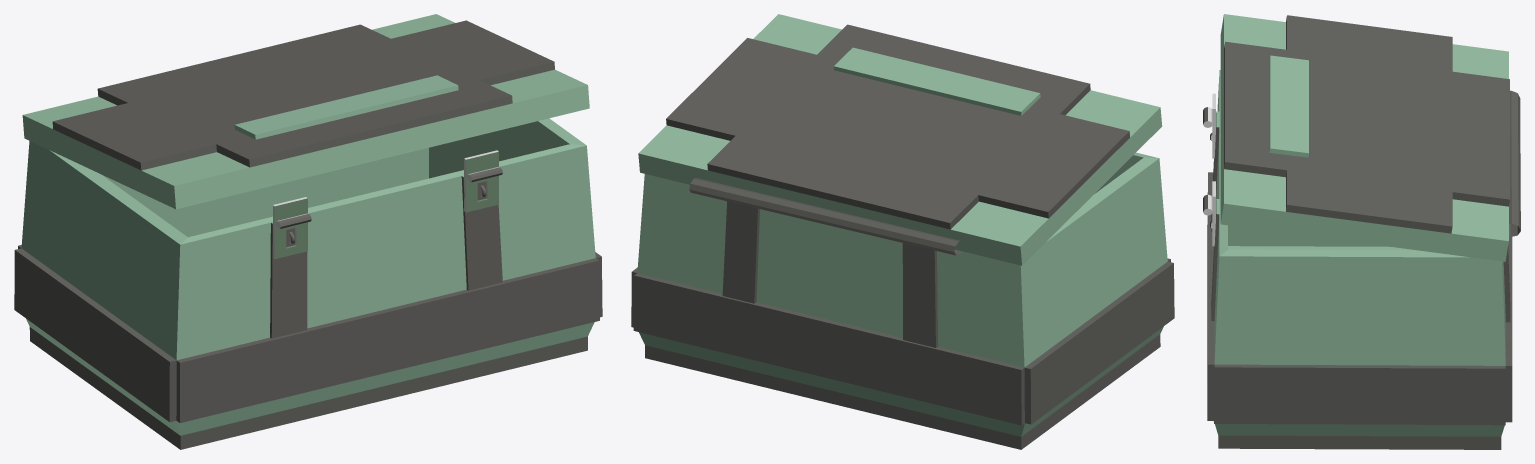
File: открытый контейнер.fbx
3 renders of one model, left to right at view 1: azimuth 30°, elevation 25°; view 2: azimuth 150°, elevation 25°; view 3: azimuth 270°, elevation 25°, orthographic. The views are drawn at different scales.
Visible parts, largest first — view 1: Cube, Cube.001, Cube.002, Cube.003, Cube.004, Плоскость.001, Плоскость.003; view 2: Cube.001, Cube, Cube.002, Cube.003, Cube.004, Цилиндр; view 3: Cube.001, Cube, Cube.002, Cube.003, Цилиндр, Cube.004.
Part boxes in pixels (<box>): Cube: <box>21,118,595,435</box>; Cube.001: <box>22,14,589,209</box>; Cube.002: <box>14,245,602,422</box>; Cube.003: <box>29,327,587,449</box>; Cube.004: <box>270,176,502,338</box>; Плоскость.001: <box>274,198,307,258</box>; Плоскость.003: <box>466,151,498,212</box>; Cube.001: <box>638,14,1162,265</box>; Cube: <box>637,152,1167,436</box>; Cube.002: <box>631,258,1174,425</box>; Cube.003: <box>645,334,1160,449</box>; Cube.004: <box>722,201,938,347</box>; Цилиндр: <box>689,178,961,255</box>; Cube.001: <box>1220,14,1509,261</box>; Cube: <box>1214,70,1505,436</box>; Cube.002: <box>1207,172,1512,425</box>; Cube.003: <box>1218,435,1501,449</box>; Цилиндр: <box>1509,90,1520,236</box>; Cube.004: <box>1211,113,1510,322</box>.
Bounding box in the file's own units: 326 × 195 × 221.
